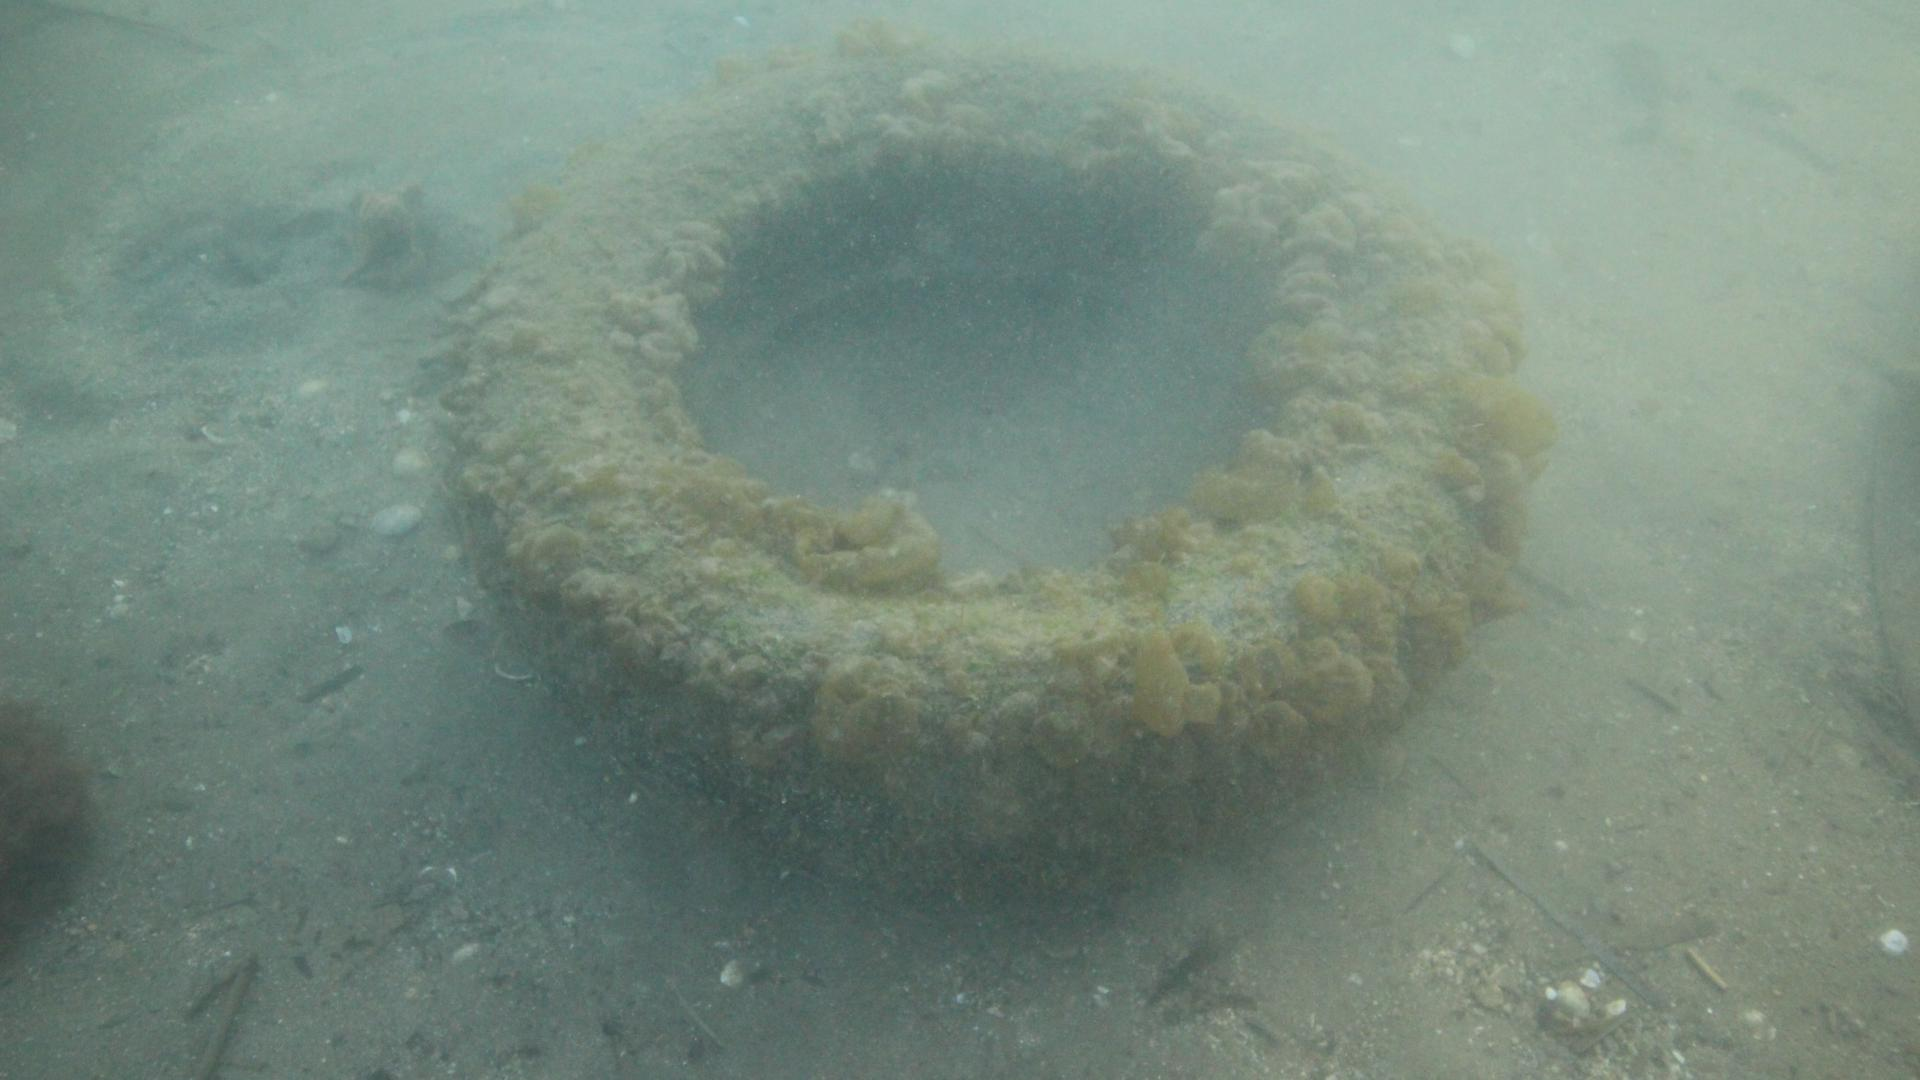tire: (447, 54, 1495, 890)
